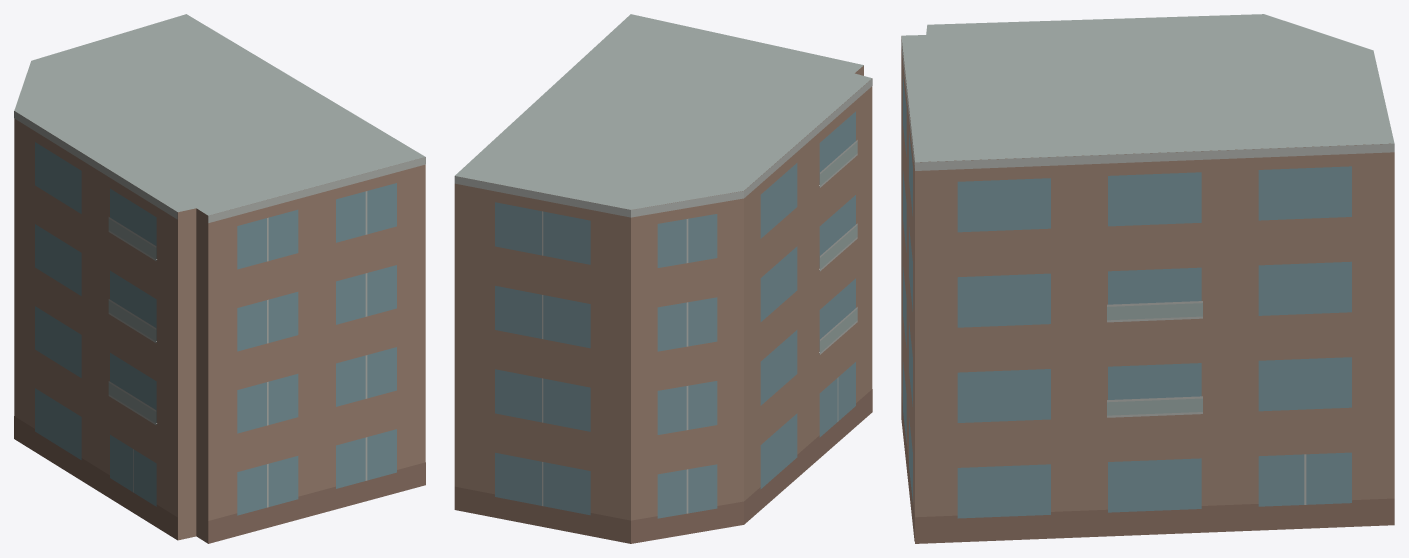
Rendered from survey-upis-32936886.glb.
3 renders of one model, left to right at view 1: azimuth 30°, elevation 25°; view 2: azimuth 150°, elevation 25°; view 3: azimuth 270°, elevation 25°, orthographic. The views are drawn at different scales.
Parts seen in each view (by area): view 1: survey-upis-32936886.tmp; view 2: survey-upis-32936886.tmp; view 3: survey-upis-32936886.tmp.
Part boxes in pixels (x1,y1,x2,y2): survey-upis-32936886.tmp: [14, 14, 425, 543]; survey-upis-32936886.tmp: [454, 14, 872, 543]; survey-upis-32936886.tmp: [901, 14, 1394, 543].
Size of the model in its own units: 8.84 by 10.6 by 12.43.
